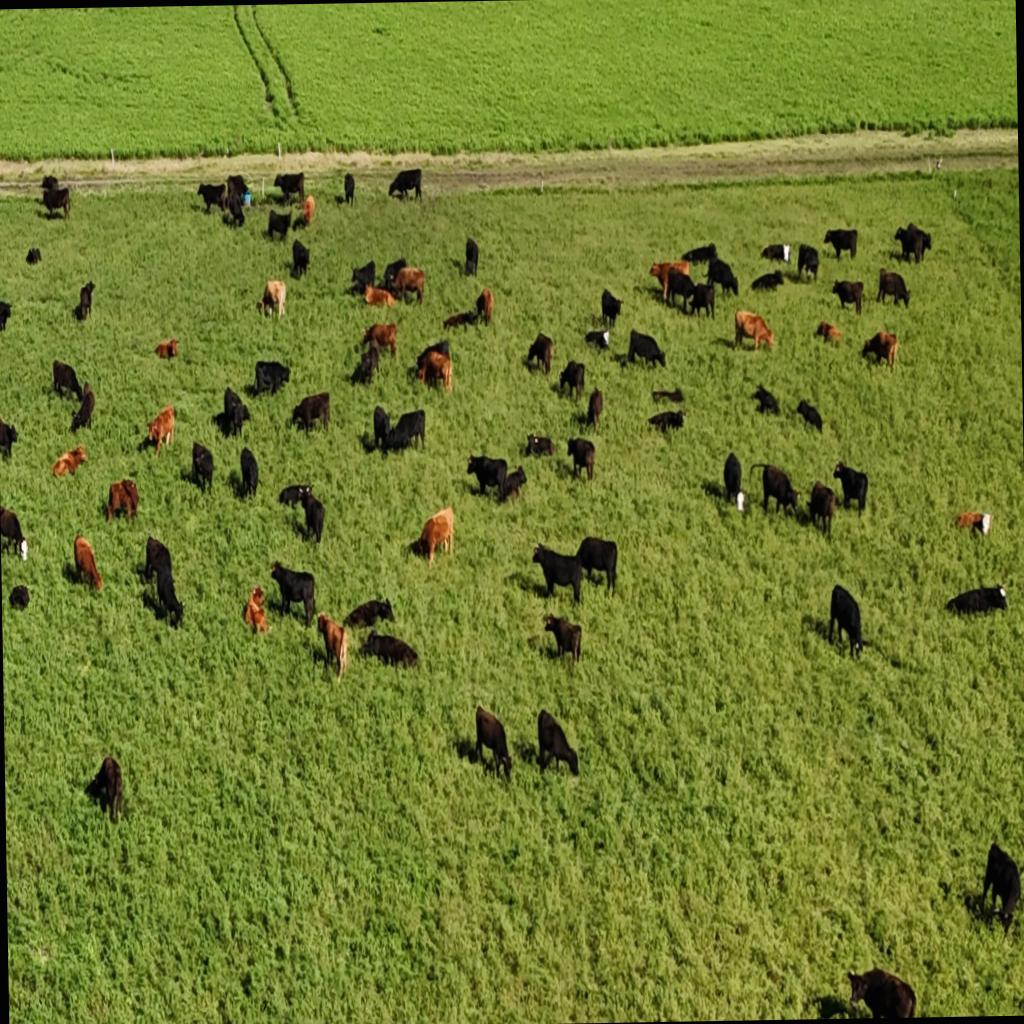cow: (979, 840, 1023, 936), (846, 966, 916, 1018), (531, 541, 584, 605), (828, 580, 868, 660), (270, 560, 316, 628), (536, 706, 578, 780), (473, 704, 511, 780), (412, 506, 454, 570), (574, 534, 618, 595), (753, 462, 801, 517), (86, 755, 124, 823), (316, 609, 348, 683), (542, 612, 582, 668), (362, 631, 418, 670), (944, 584, 1008, 618), (154, 564, 186, 630), (832, 460, 868, 516), (382, 408, 425, 454), (466, 452, 507, 498), (73, 532, 103, 594), (216, 386, 250, 439), (733, 309, 773, 354), (807, 478, 836, 538), (291, 392, 330, 436), (343, 598, 393, 630), (893, 222, 931, 264), (0, 504, 28, 560), (104, 478, 138, 524), (251, 358, 290, 398), (146, 404, 176, 456), (417, 349, 452, 393), (860, 330, 898, 370), (627, 328, 663, 370), (875, 267, 911, 308), (52, 358, 84, 404), (360, 322, 398, 360), (648, 260, 684, 300), (706, 256, 738, 300), (143, 534, 173, 580), (50, 442, 88, 478), (391, 266, 425, 306), (300, 488, 324, 544), (494, 464, 526, 506), (242, 585, 268, 636), (665, 270, 696, 312), (568, 437, 596, 482), (823, 226, 858, 262), (70, 382, 95, 432), (190, 442, 214, 494), (524, 332, 553, 375), (387, 167, 422, 202), (354, 340, 380, 386), (831, 278, 864, 314), (558, 360, 586, 402), (258, 276, 286, 318), (272, 171, 305, 206), (722, 450, 742, 507), (688, 280, 716, 320), (226, 176, 248, 226), (196, 180, 228, 214), (238, 444, 258, 498), (41, 184, 71, 220), (72, 279, 96, 322), (956, 509, 992, 537), (413, 338, 449, 366), (647, 409, 684, 436), (750, 384, 780, 416), (278, 483, 314, 509), (382, 258, 408, 294), (600, 286, 622, 328), (372, 404, 391, 452), (266, 208, 292, 243), (796, 243, 819, 282), (796, 398, 822, 432), (350, 260, 376, 294), (362, 283, 396, 308), (0, 416, 18, 462), (680, 243, 715, 266), (290, 238, 310, 278), (750, 270, 784, 292), (815, 320, 842, 347), (526, 432, 554, 458), (476, 286, 494, 326), (586, 386, 602, 430), (442, 310, 474, 330), (584, 328, 610, 352), (154, 336, 180, 360), (464, 236, 479, 276), (652, 387, 684, 405), (8, 584, 30, 610), (300, 194, 315, 228), (759, 244, 787, 262), (0, 299, 13, 332), (343, 172, 355, 206), (24, 246, 42, 264), (40, 174, 58, 191)
